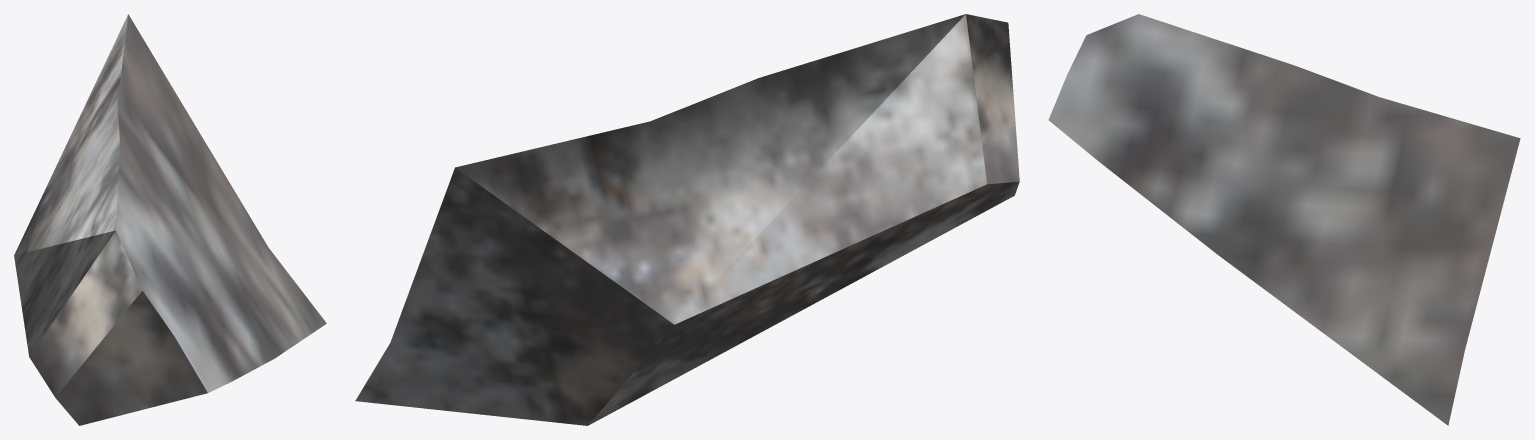
Rendered from Asteroid_Large_001_02_010_03_015.fbx.
3 views of the same model, side by side, from view 1: azimuth 30°, elevation 25°; view 2: azimuth 150°, elevation 25°; view 3: azimuth 270°, elevation 25° (orthographic). The views are drawn at different scales.
Visible parts, largest first — view 1: Asteroid_Large_001_02_010_03_015; view 2: Asteroid_Large_001_02_010_03_015; view 3: Asteroid_Large_001_02_010_03_015.
Boxes of the visible parts, x1,y1,x2,y2 form: Asteroid_Large_001_02_010_03_015: [14, 14, 326, 425]; Asteroid_Large_001_02_010_03_015: [355, 14, 1019, 425]; Asteroid_Large_001_02_010_03_015: [1048, 14, 1520, 425].
Size of the model in its own units: 3.17 by 2.2 by 3.64.
